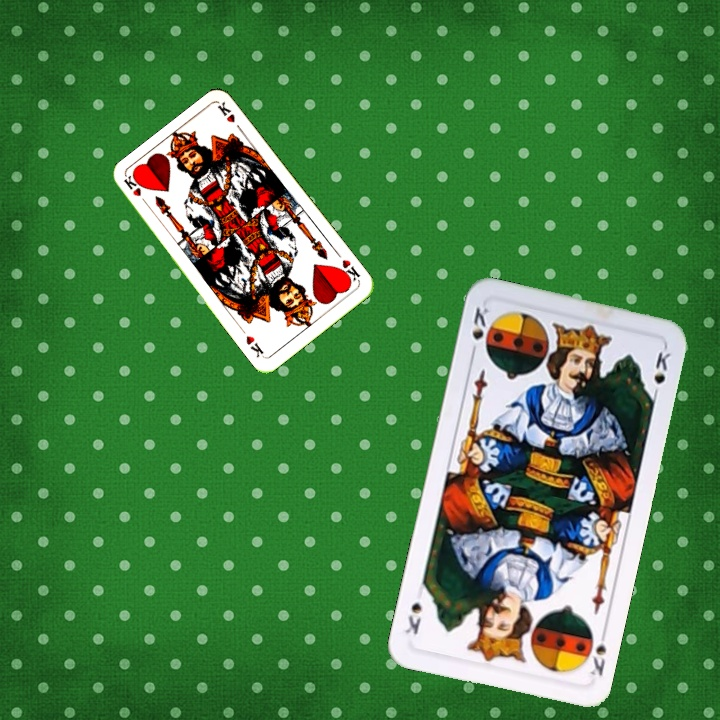HK: (120, 172, 152, 209), (335, 255, 363, 286)
SK: (467, 301, 492, 359), (586, 625, 609, 679)
